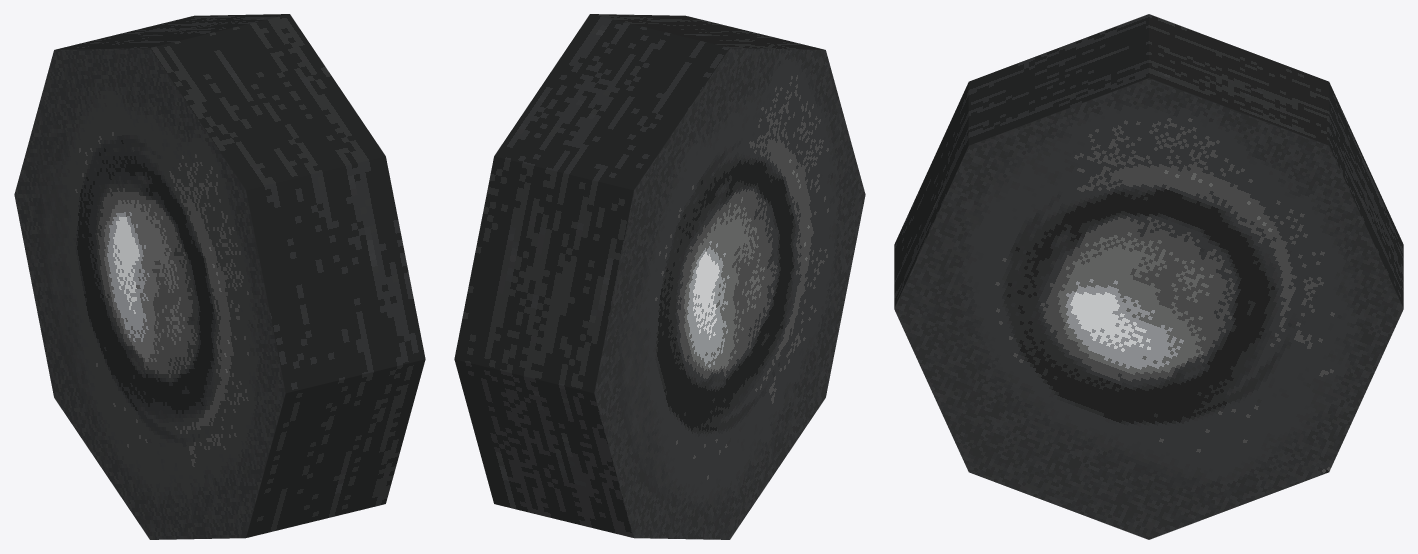
Rendered from wheel01.glb.
The picture shows the model from 3 angles, left to right: view 1: azimuth 30°, elevation 25°; view 2: azimuth 150°, elevation 25°; view 3: azimuth 270°, elevation 25°; orthographic projection. The views are drawn at different scales.
Parts seen in each view (by area): view 1: car_M_Wheels_0; view 2: car_M_Wheels_0; view 3: car_M_Wheels_0.
Boxes of the visible parts, x1,y1,x2,y2 form: car_M_Wheels_0: [14, 14, 425, 539]; car_M_Wheels_0: [454, 14, 865, 539]; car_M_Wheels_0: [894, 14, 1403, 539].
Bounding box in the file's own units: 0.2064 × 0.6934 × 0.6934.
1 material, 1 textured.
